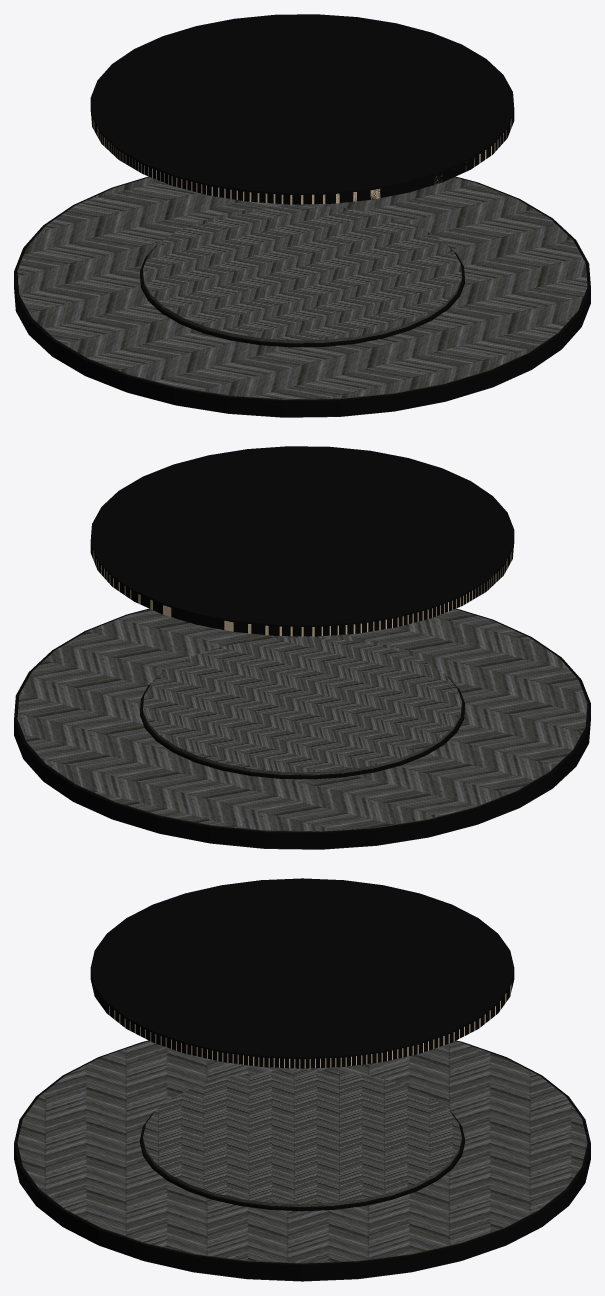
File: bgv2_near_light.glb
The picture shows the model from 3 angles, top to bottom: view 1: azimuth 30°, elevation 25°; view 2: azimuth 150°, elevation 25°; view 3: azimuth 270°, elevation 25°; orthographic projection.
Parts seen in each view (by area): view 1: Cylinder.009, Cylinder mask.001, Cylinder mask, Cylinder.005, Cylinder.004, Cube; view 2: Cylinder.009, Cylinder mask.001, Cylinder mask, Cylinder.005, Cylinder.004, Cube; view 3: Cylinder.009, Cylinder mask.001, Cylinder mask, Cylinder.005, Cylinder.004, Cube.
Boxes of the visible parts, x1,y1,x2,y2 form: Cylinder.009: (90, 14, 514, 204); Cylinder mask.001: (17, 177, 587, 417); Cylinder mask: (143, 205, 461, 343); Cylinder.005: (14, 176, 590, 417); Cylinder.004: (140, 241, 464, 347); Cube: (91, 115, 511, 204); Cylinder.009: (90, 446, 514, 636); Cylinder mask.001: (17, 609, 587, 849); Cylinder mask: (143, 637, 461, 775); Cylinder.005: (14, 608, 590, 849); Cylinder.004: (140, 673, 464, 779); Cube: (93, 547, 513, 636); Cylinder.009: (90, 878, 514, 1068); Cylinder mask.001: (17, 1041, 587, 1281); Cylinder mask: (143, 1069, 461, 1206); Cylinder.005: (14, 1040, 590, 1281); Cylinder.004: (140, 1111, 464, 1211); Cube: (109, 984, 511, 1068).
Size of the model in its own units: 9.52 by 3.52 by 9.52.
Materials: 8 (4 with a texture image).
